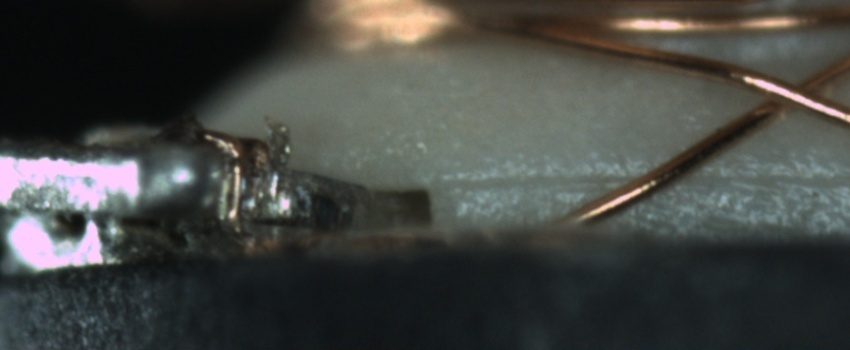CL: (741, 64, 841, 126)
DL: (447, 147, 849, 211)
TE: (193, 121, 282, 240)
